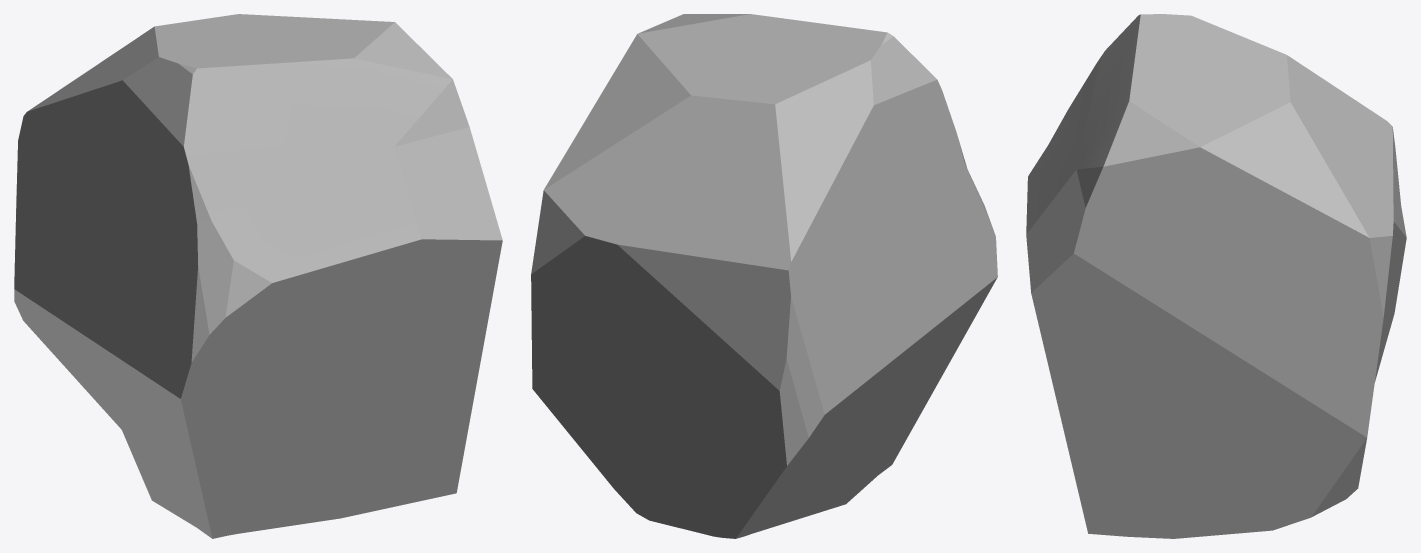
Rendered from Rocks_1.fbx.
The picture shows the model from 3 angles, left to right: view 1: azimuth 30°, elevation 25°; view 2: azimuth 150°, elevation 25°; view 3: azimuth 270°, elevation 25°; orthographic projection. The views are drawn at different scales.
Parts seen in each view (by area): view 1: Rocks_1; view 2: Rocks_1; view 3: Rocks_1.
Boxes of the visible parts, <box> form: Rocks_1: <box>14,14,502,538</box>; Rocks_1: <box>531,14,997,538</box>; Rocks_1: <box>1026,14,1406,538</box>.
Size of the model in its own units: 190 by 267 by 218.
